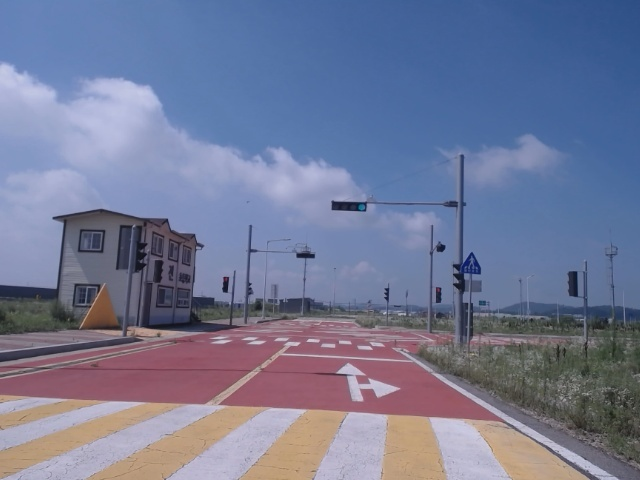straight_green_4: (332, 202, 367, 212)
